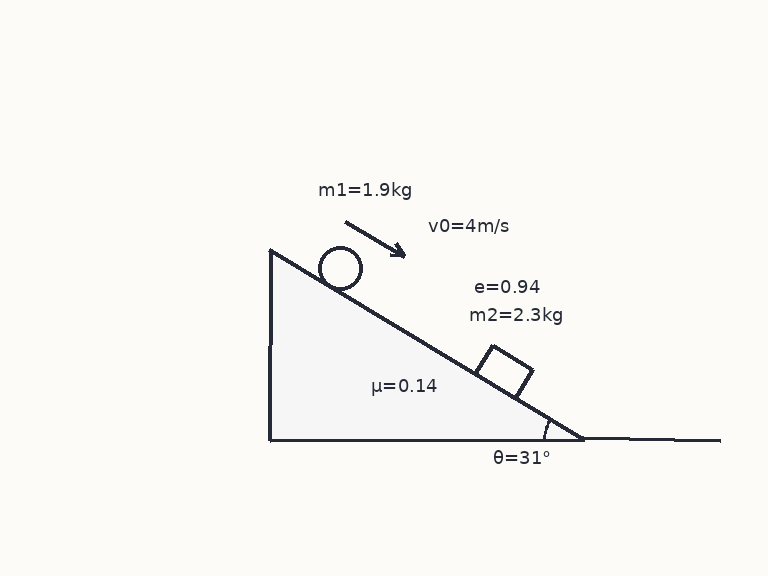ball: (316, 244, 364, 292)
block: (473, 343, 534, 400)
ramp: (267, 248, 586, 442)
